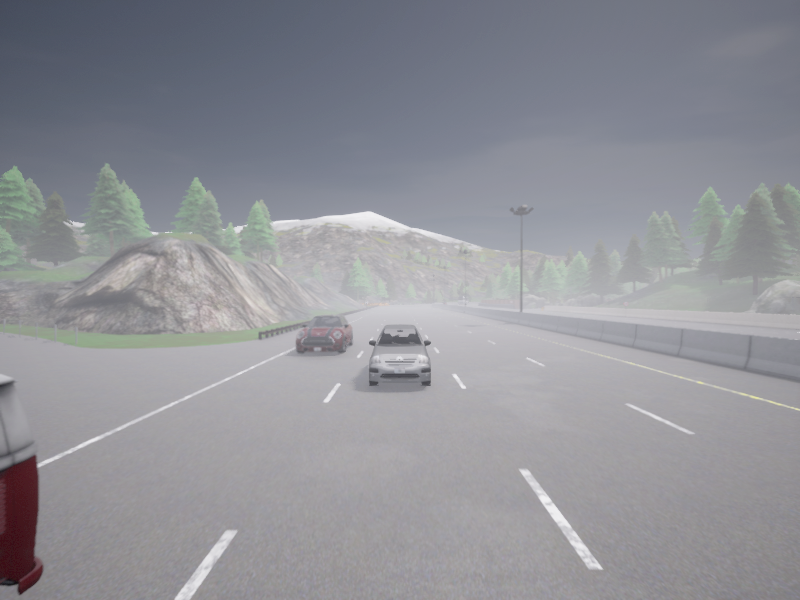vehicle: (0, 373, 43, 594), (369, 324, 430, 385), (296, 314, 352, 353), (458, 297, 468, 304), (443, 302, 447, 304)
